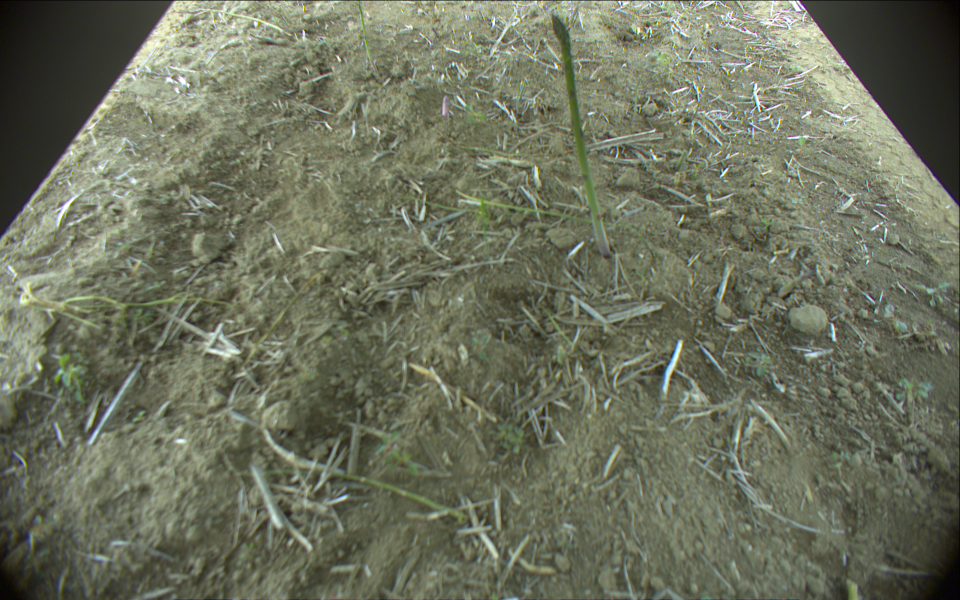aspa: (259, 415, 468, 522), (548, 16, 613, 258), (458, 190, 618, 226), (355, 4, 376, 66)
